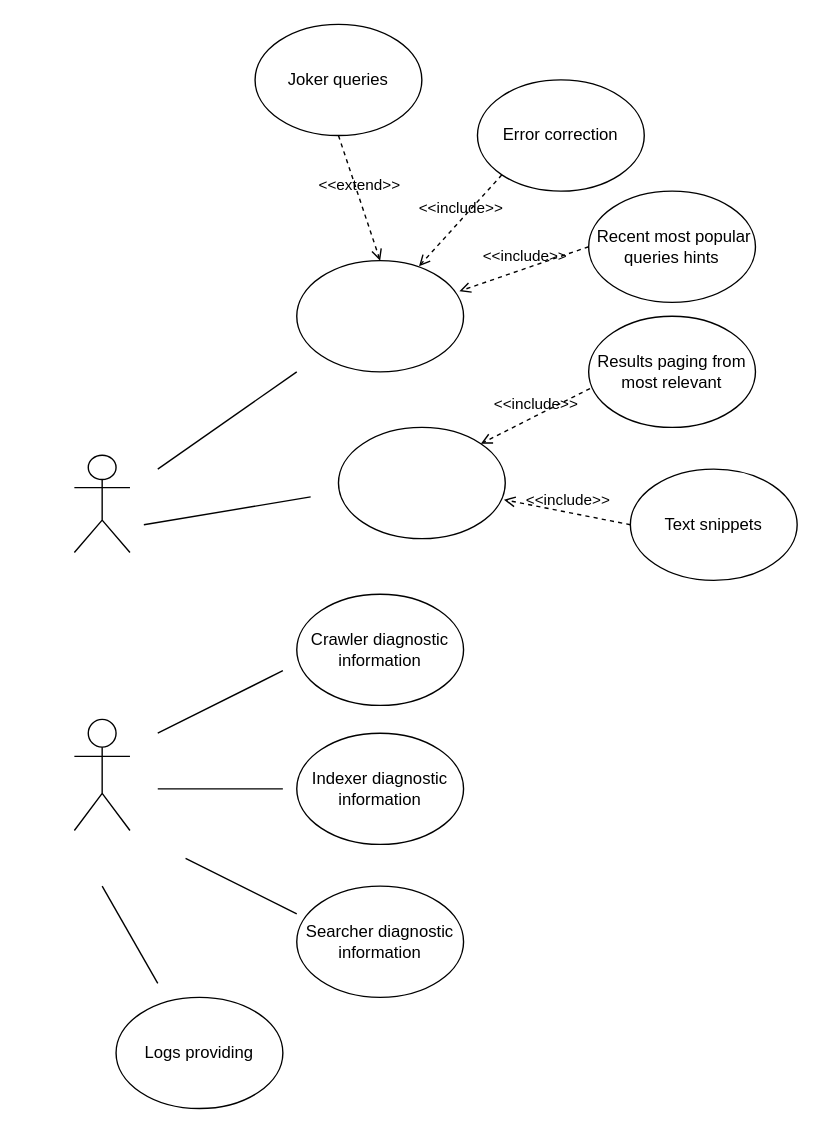
This 821x1133 diagram has some shape labels left out. Each missing label, with the box of its shape:
Query results: (337, 426, 505, 539)
System administrator: (73, 718, 130, 831)
Text query input: (295, 259, 464, 372)
User: (73, 454, 130, 553)
